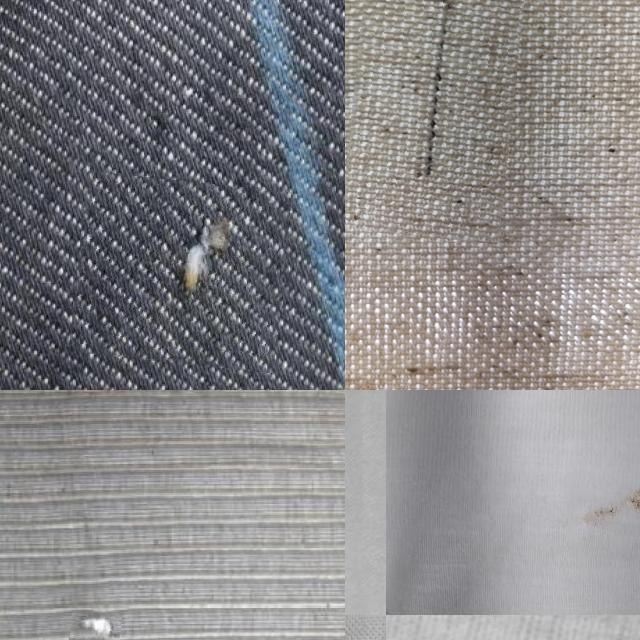Hole: (566, 457, 640, 563)
Thread_other: (347, 0, 521, 240), (72, 176, 288, 368)
seam: (69, 611, 121, 640)
